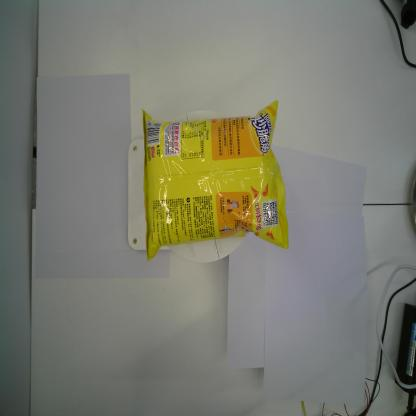Puffed Food: (141, 100, 290, 262)
